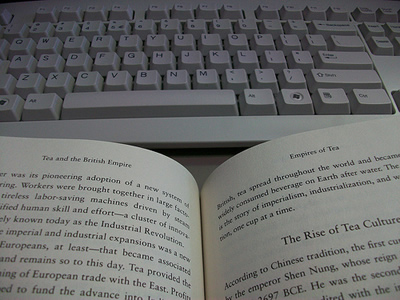Open Book: (1, 117, 399, 300)
